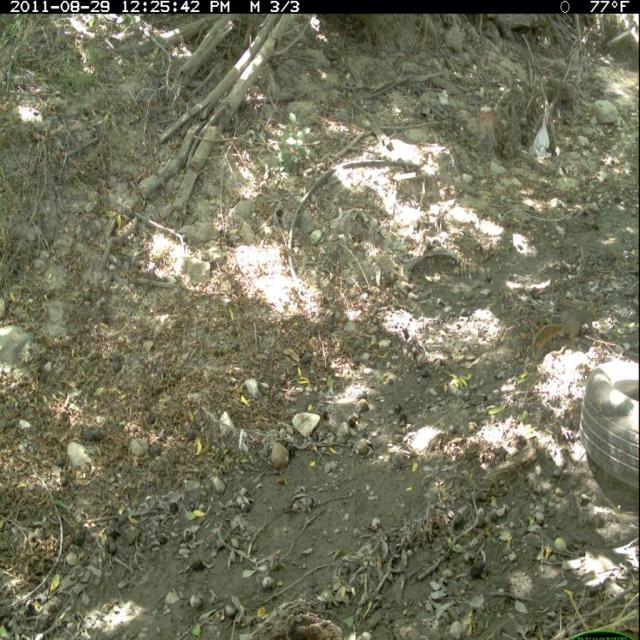squirrel: (530, 297, 598, 367)
